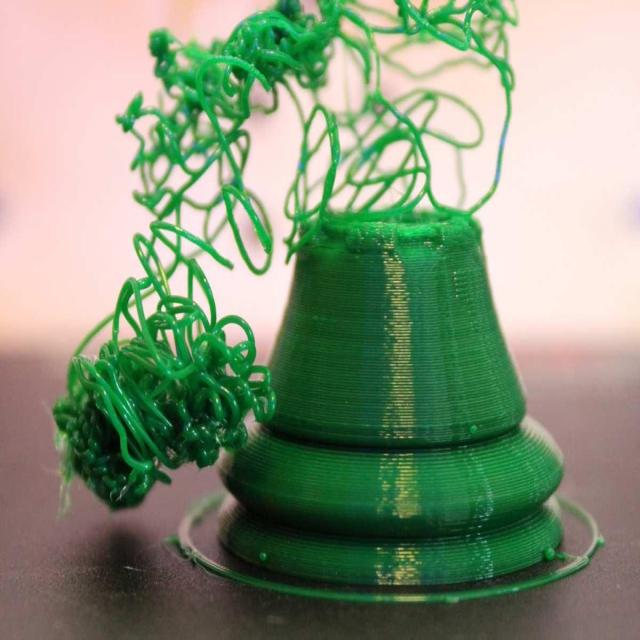Spaghetti: (123, 7, 543, 248), (48, 248, 282, 502)
